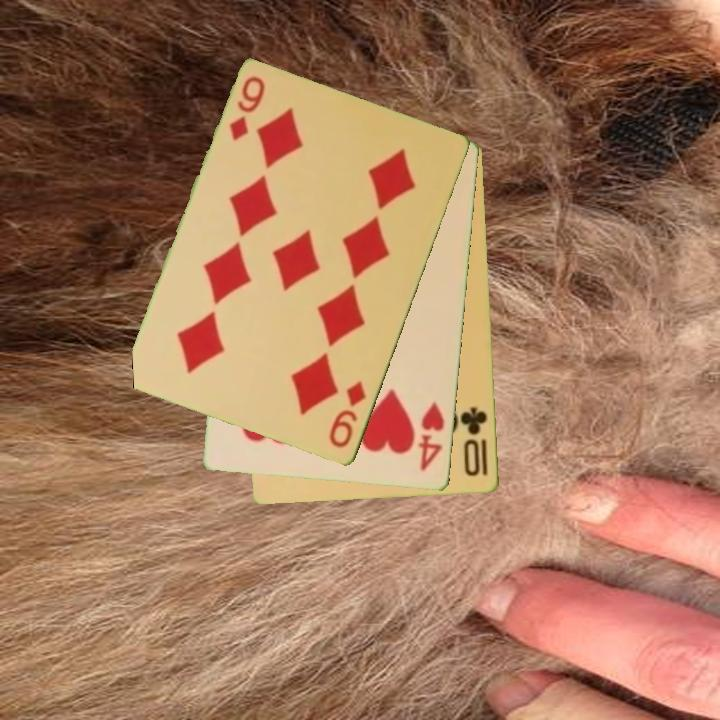10c: (457, 404, 491, 480)
4h: (415, 398, 448, 474)
9d: (325, 378, 369, 452), (226, 73, 269, 144)
